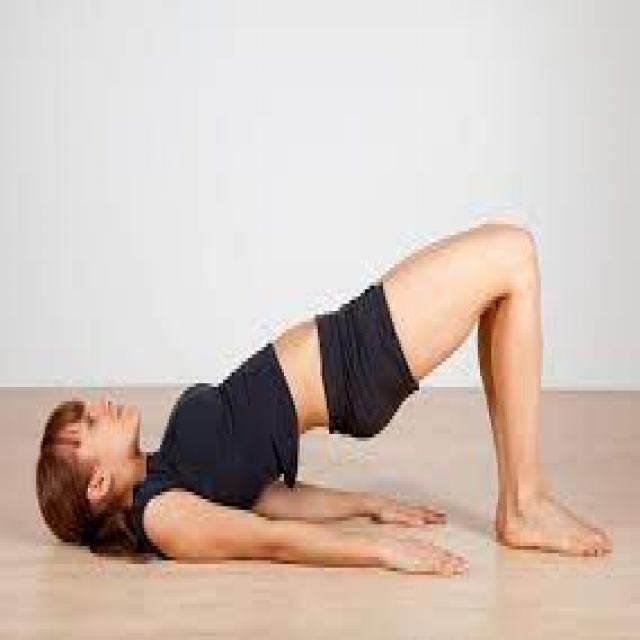yoga-pose bridge: (40, 219, 615, 570)
